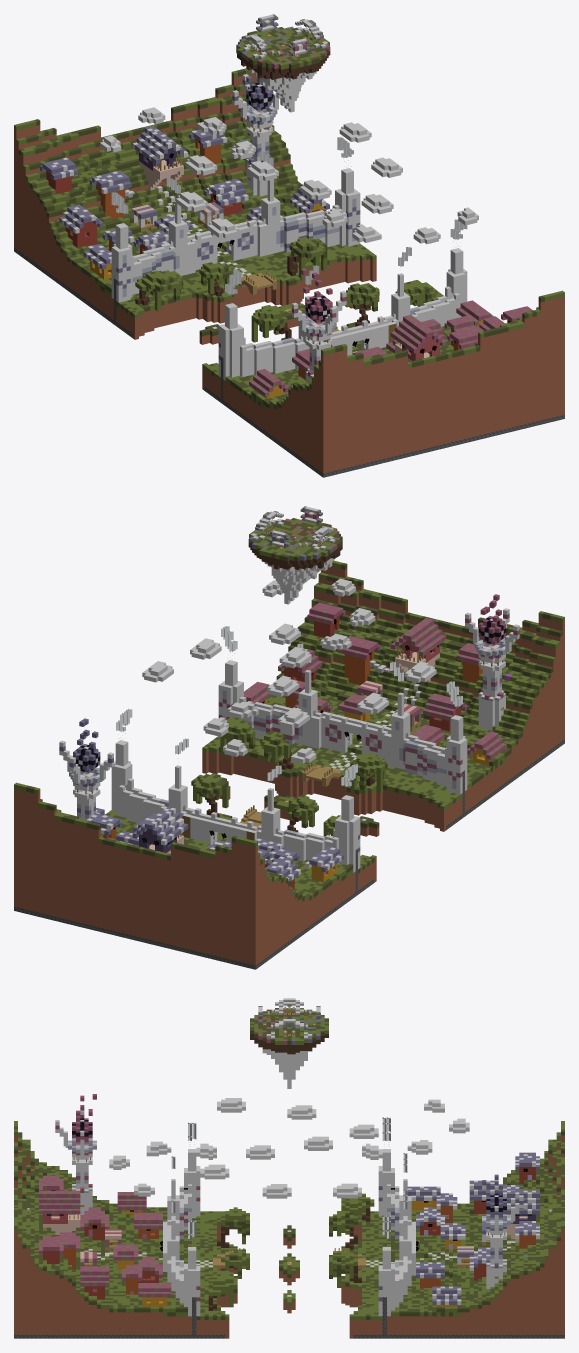
The model's file is minecraft.obj.
The picture shows the model from 3 angles, top to bottom: view 1: azimuth 30°, elevation 25°; view 2: azimuth 150°, elevation 25°; view 3: azimuth 270°, elevation 25°; orthographic projection. The views are drawn at different scales.
Bounding box in the file's own units: 60 × 73 × 133.
